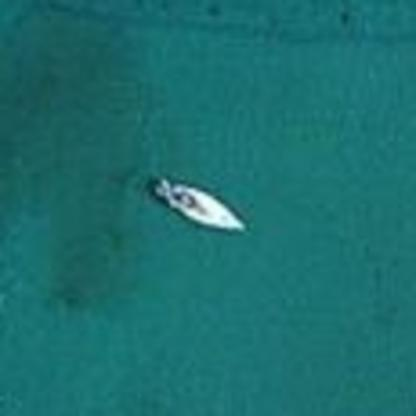ship: (144, 169, 254, 243)
